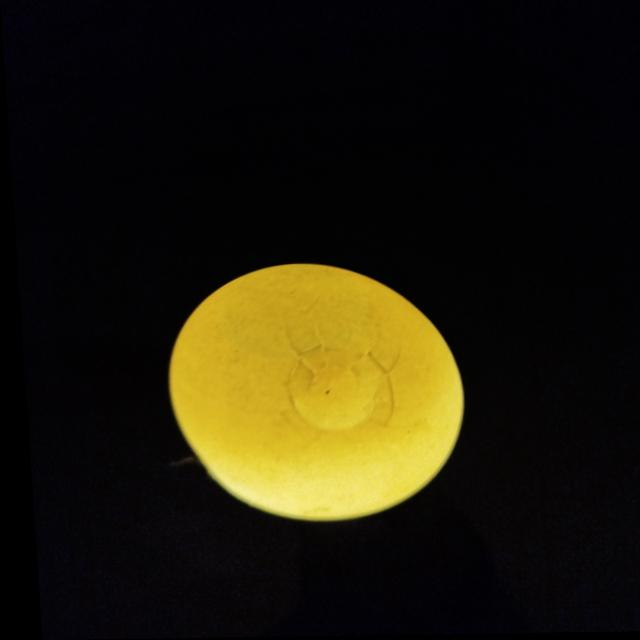Rachadura: (283, 346, 381, 431)
